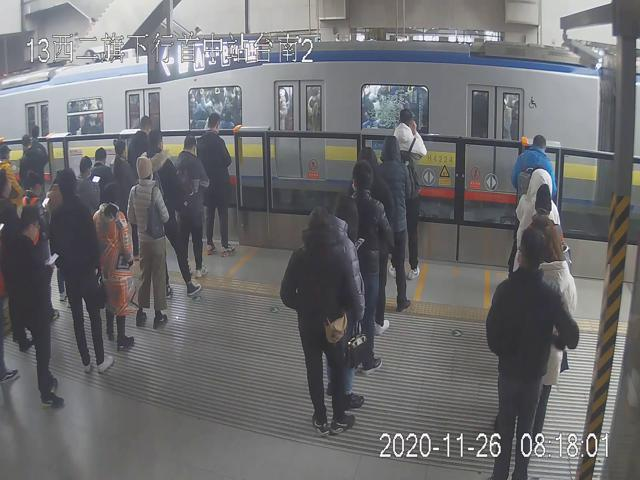person: (485, 228, 582, 480), (280, 205, 357, 436), (50, 170, 113, 372), (13, 204, 67, 408), (351, 157, 388, 375), (126, 158, 169, 330), (96, 181, 135, 351), (389, 106, 425, 276), (380, 134, 412, 312), (197, 115, 235, 258), (176, 132, 209, 278)
